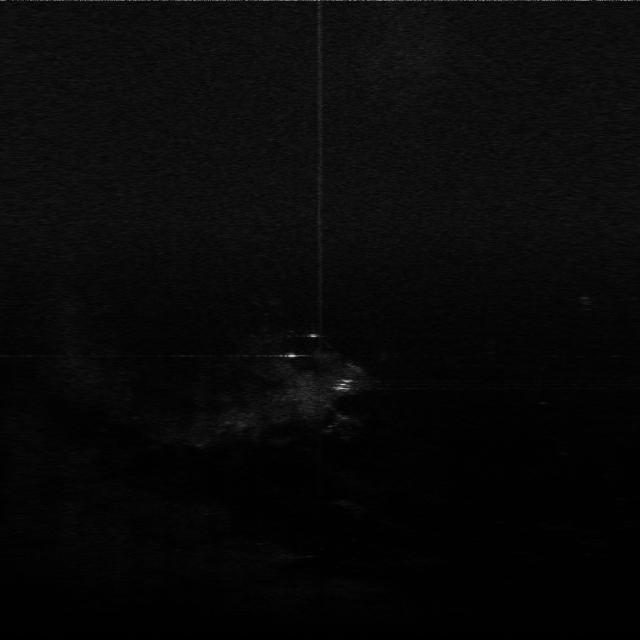rov: (333, 376, 357, 393)
